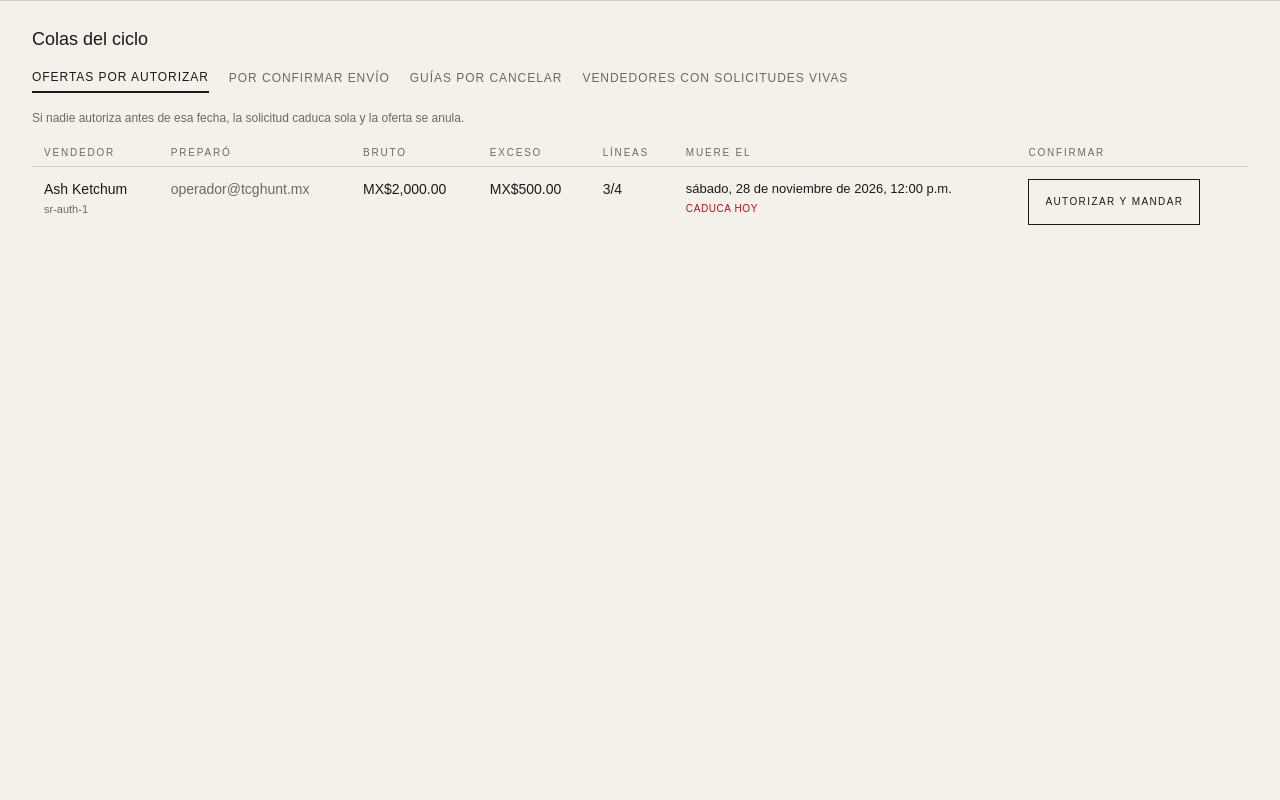
Test case: Colas del ciclo — ofertas por autorizar › autorizar es autorizar LO GUARDADO: el diálogo lo dice y no ofrece editar
What coordinates should you click on to do the following:
click the button "Autorizar y mandar"
I would click on:
 (1114, 202)
Its box is [1028,179,1200,225].
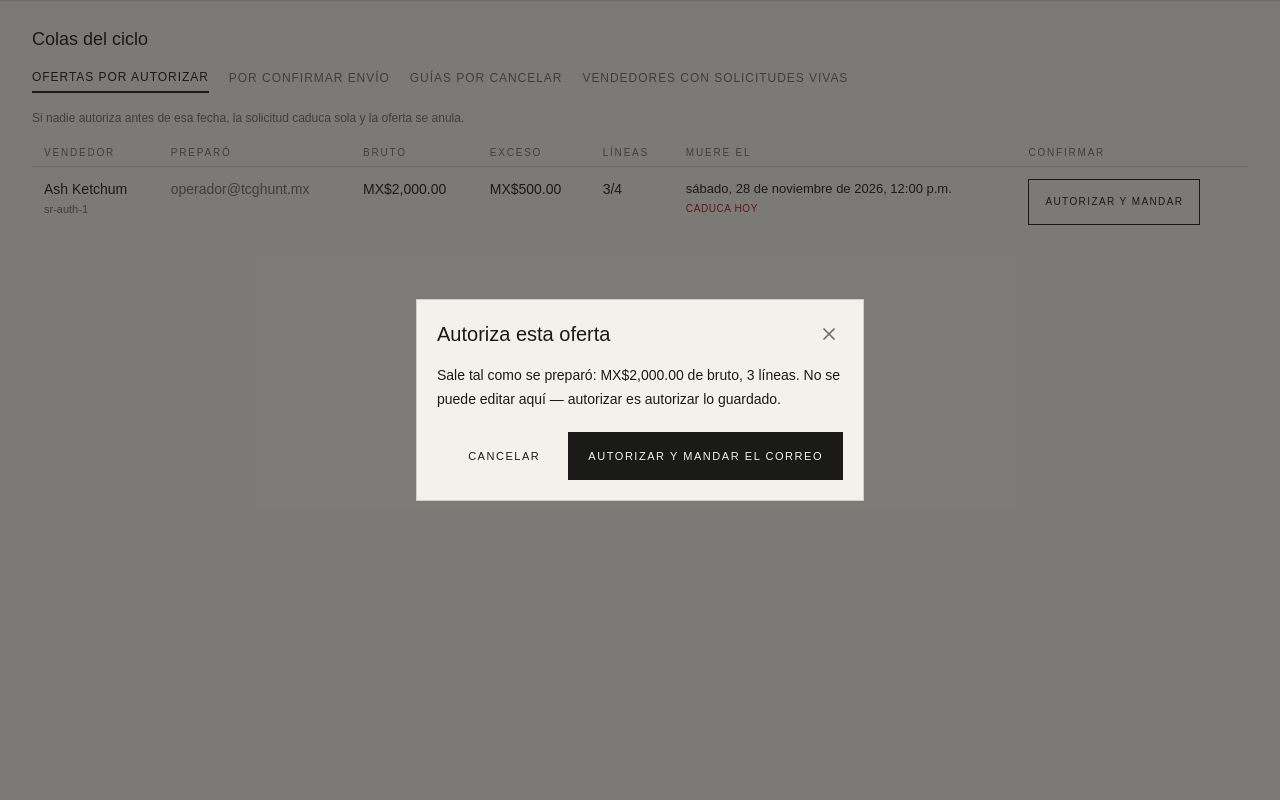
Check: the dialog shows "Sale tal como se preparó: MX$2,000.00 de bruto, 3 líneas.", box [437,367,840,407]
Check: the dialog shows "No se puede editar aquí", box [437,367,840,407]
What coordinates should you click on to do the following:
click the button "Autorizar y mandar el correo"
I would click on:
 (706, 456)
Its box is [568,432,843,480].
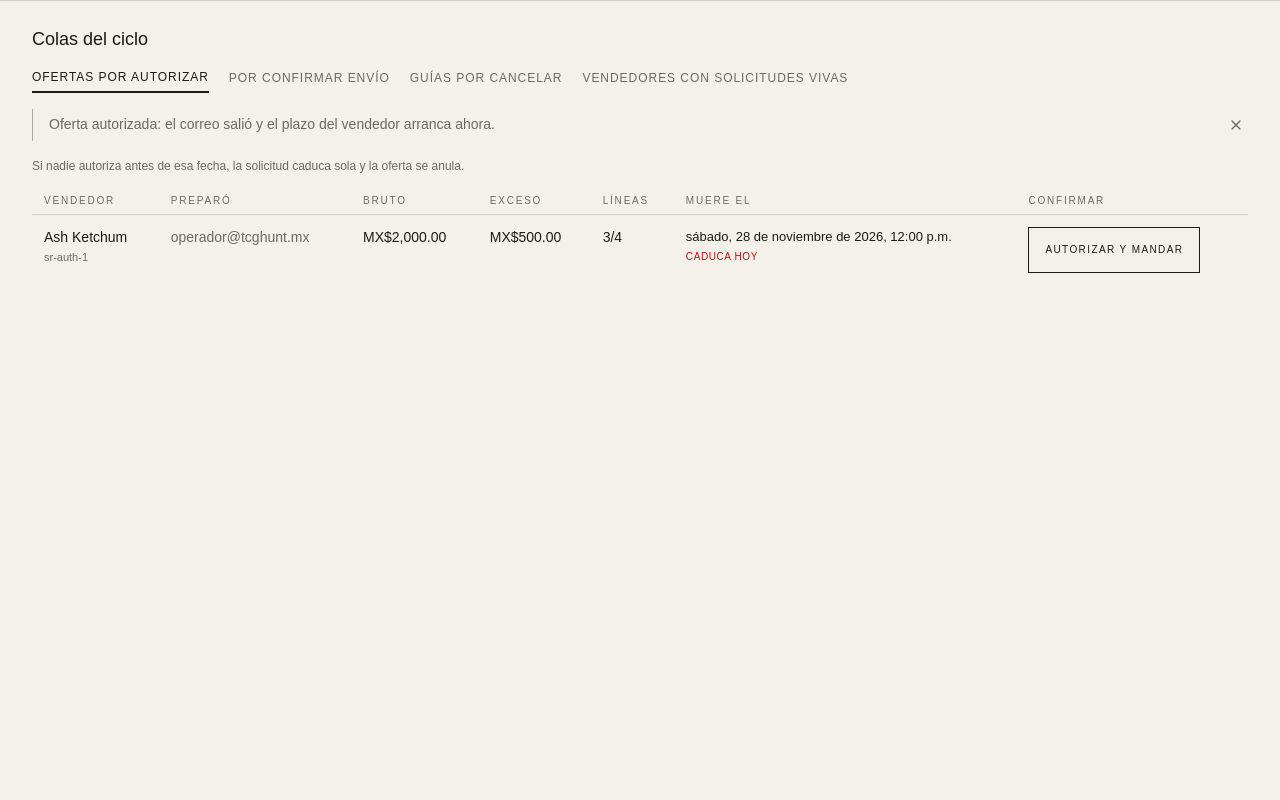
Check: the text "el correo salió y el plazo del vendedor arranca ahora" is shown, box [49,116,495,132]
